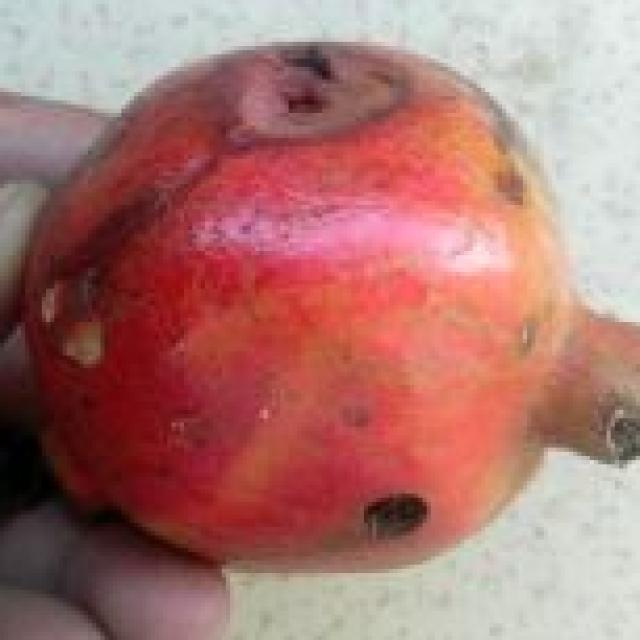Bad_Pomegranate-0-1-day: (13, 42, 640, 577)
